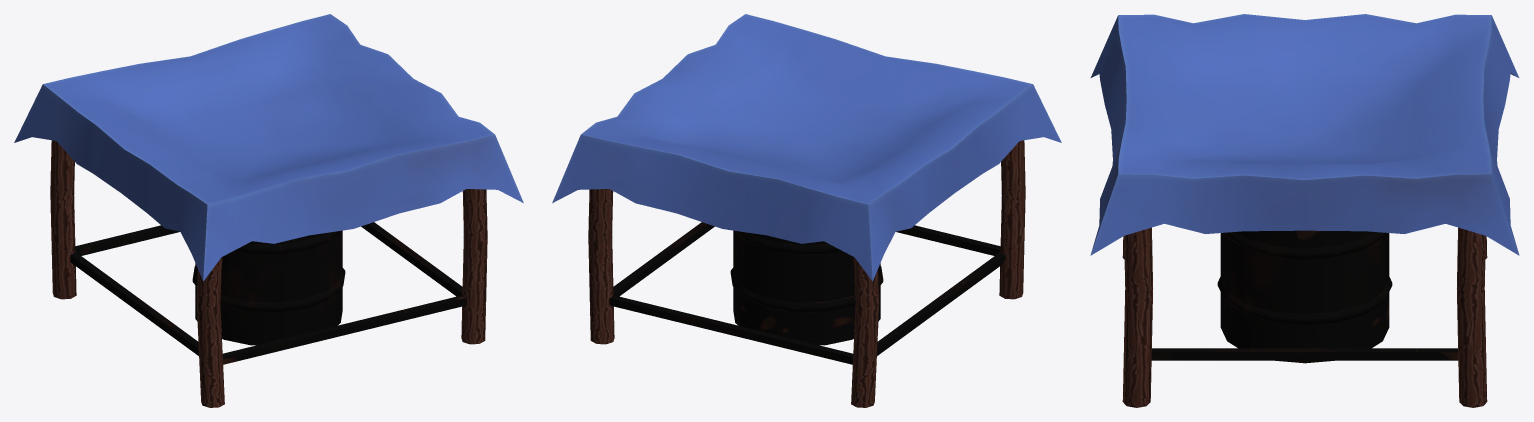
Rendered from vodosbornik.fbx.
The picture shows the model from 3 angles, left to right: view 1: azimuth 30°, elevation 25°; view 2: azimuth 150°, elevation 25°; view 3: azimuth 270°, elevation 25°; orthographic projection. The views are drawn at different scales.
Visible parts, largest first — view 1: Plane.001, cistern, Cylinder.001, Cube.001; view 2: Plane.001, cistern, Cylinder.001, Cube.001; view 3: Plane.001, cistern, Cylinder.001, Cube.001.
Boxes of the visible parts, x1,y1,x2,y2 form: Plane.001: [14, 14, 523, 281]; cistern: [192, 230, 345, 345]; Cylinder.001: [50, 140, 487, 407]; Cube.001: [70, 222, 466, 364]; Plane.001: [552, 14, 1061, 281]; cistern: [730, 230, 883, 345]; Cylinder.001: [588, 140, 1025, 407]; Cube.001: [609, 222, 1005, 364]; Plane.001: [1090, 14, 1519, 255]; cistern: [1217, 230, 1392, 363]; Cylinder.001: [1122, 227, 1487, 407]; Cube.001: [1151, 348, 1458, 360].
Bounding box in the file's own units: 326 × 202 × 333.
